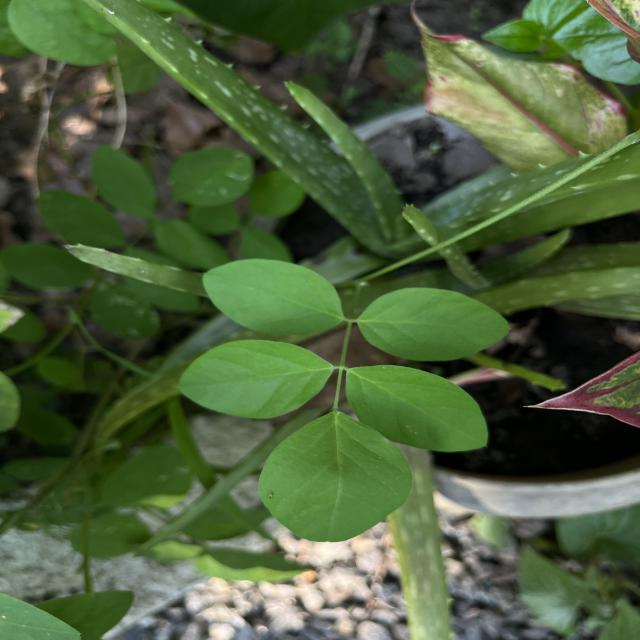Clitoria ternatea: (256, 410, 414, 544), (344, 363, 489, 453), (176, 338, 334, 420), (356, 286, 512, 363), (201, 257, 347, 338)
